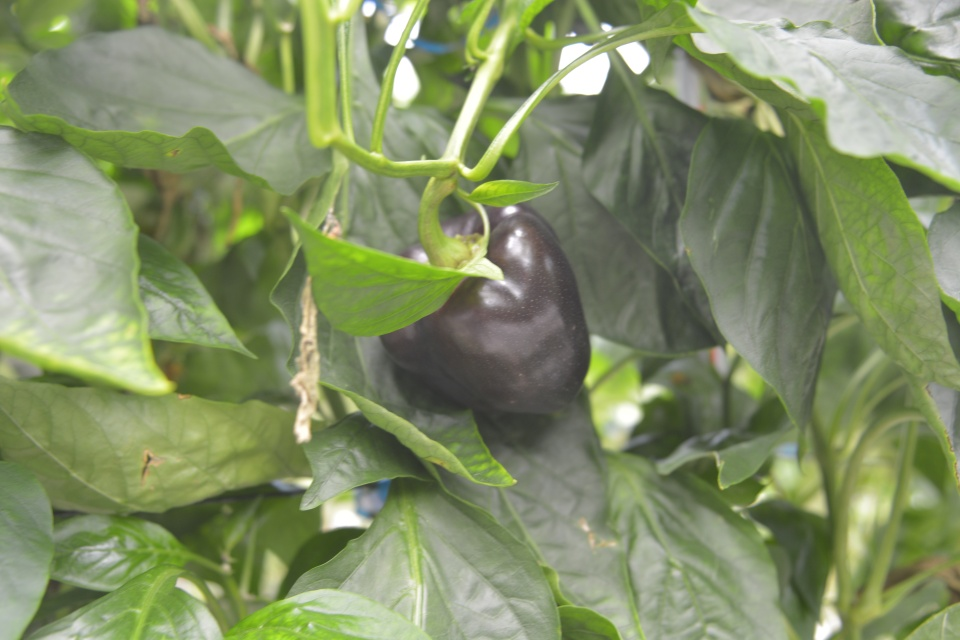fruit: (376, 197, 593, 420)
